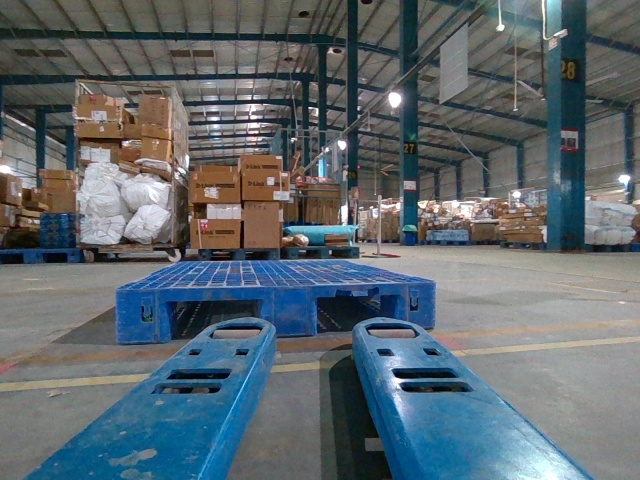pallet: (116, 283, 434, 342)
